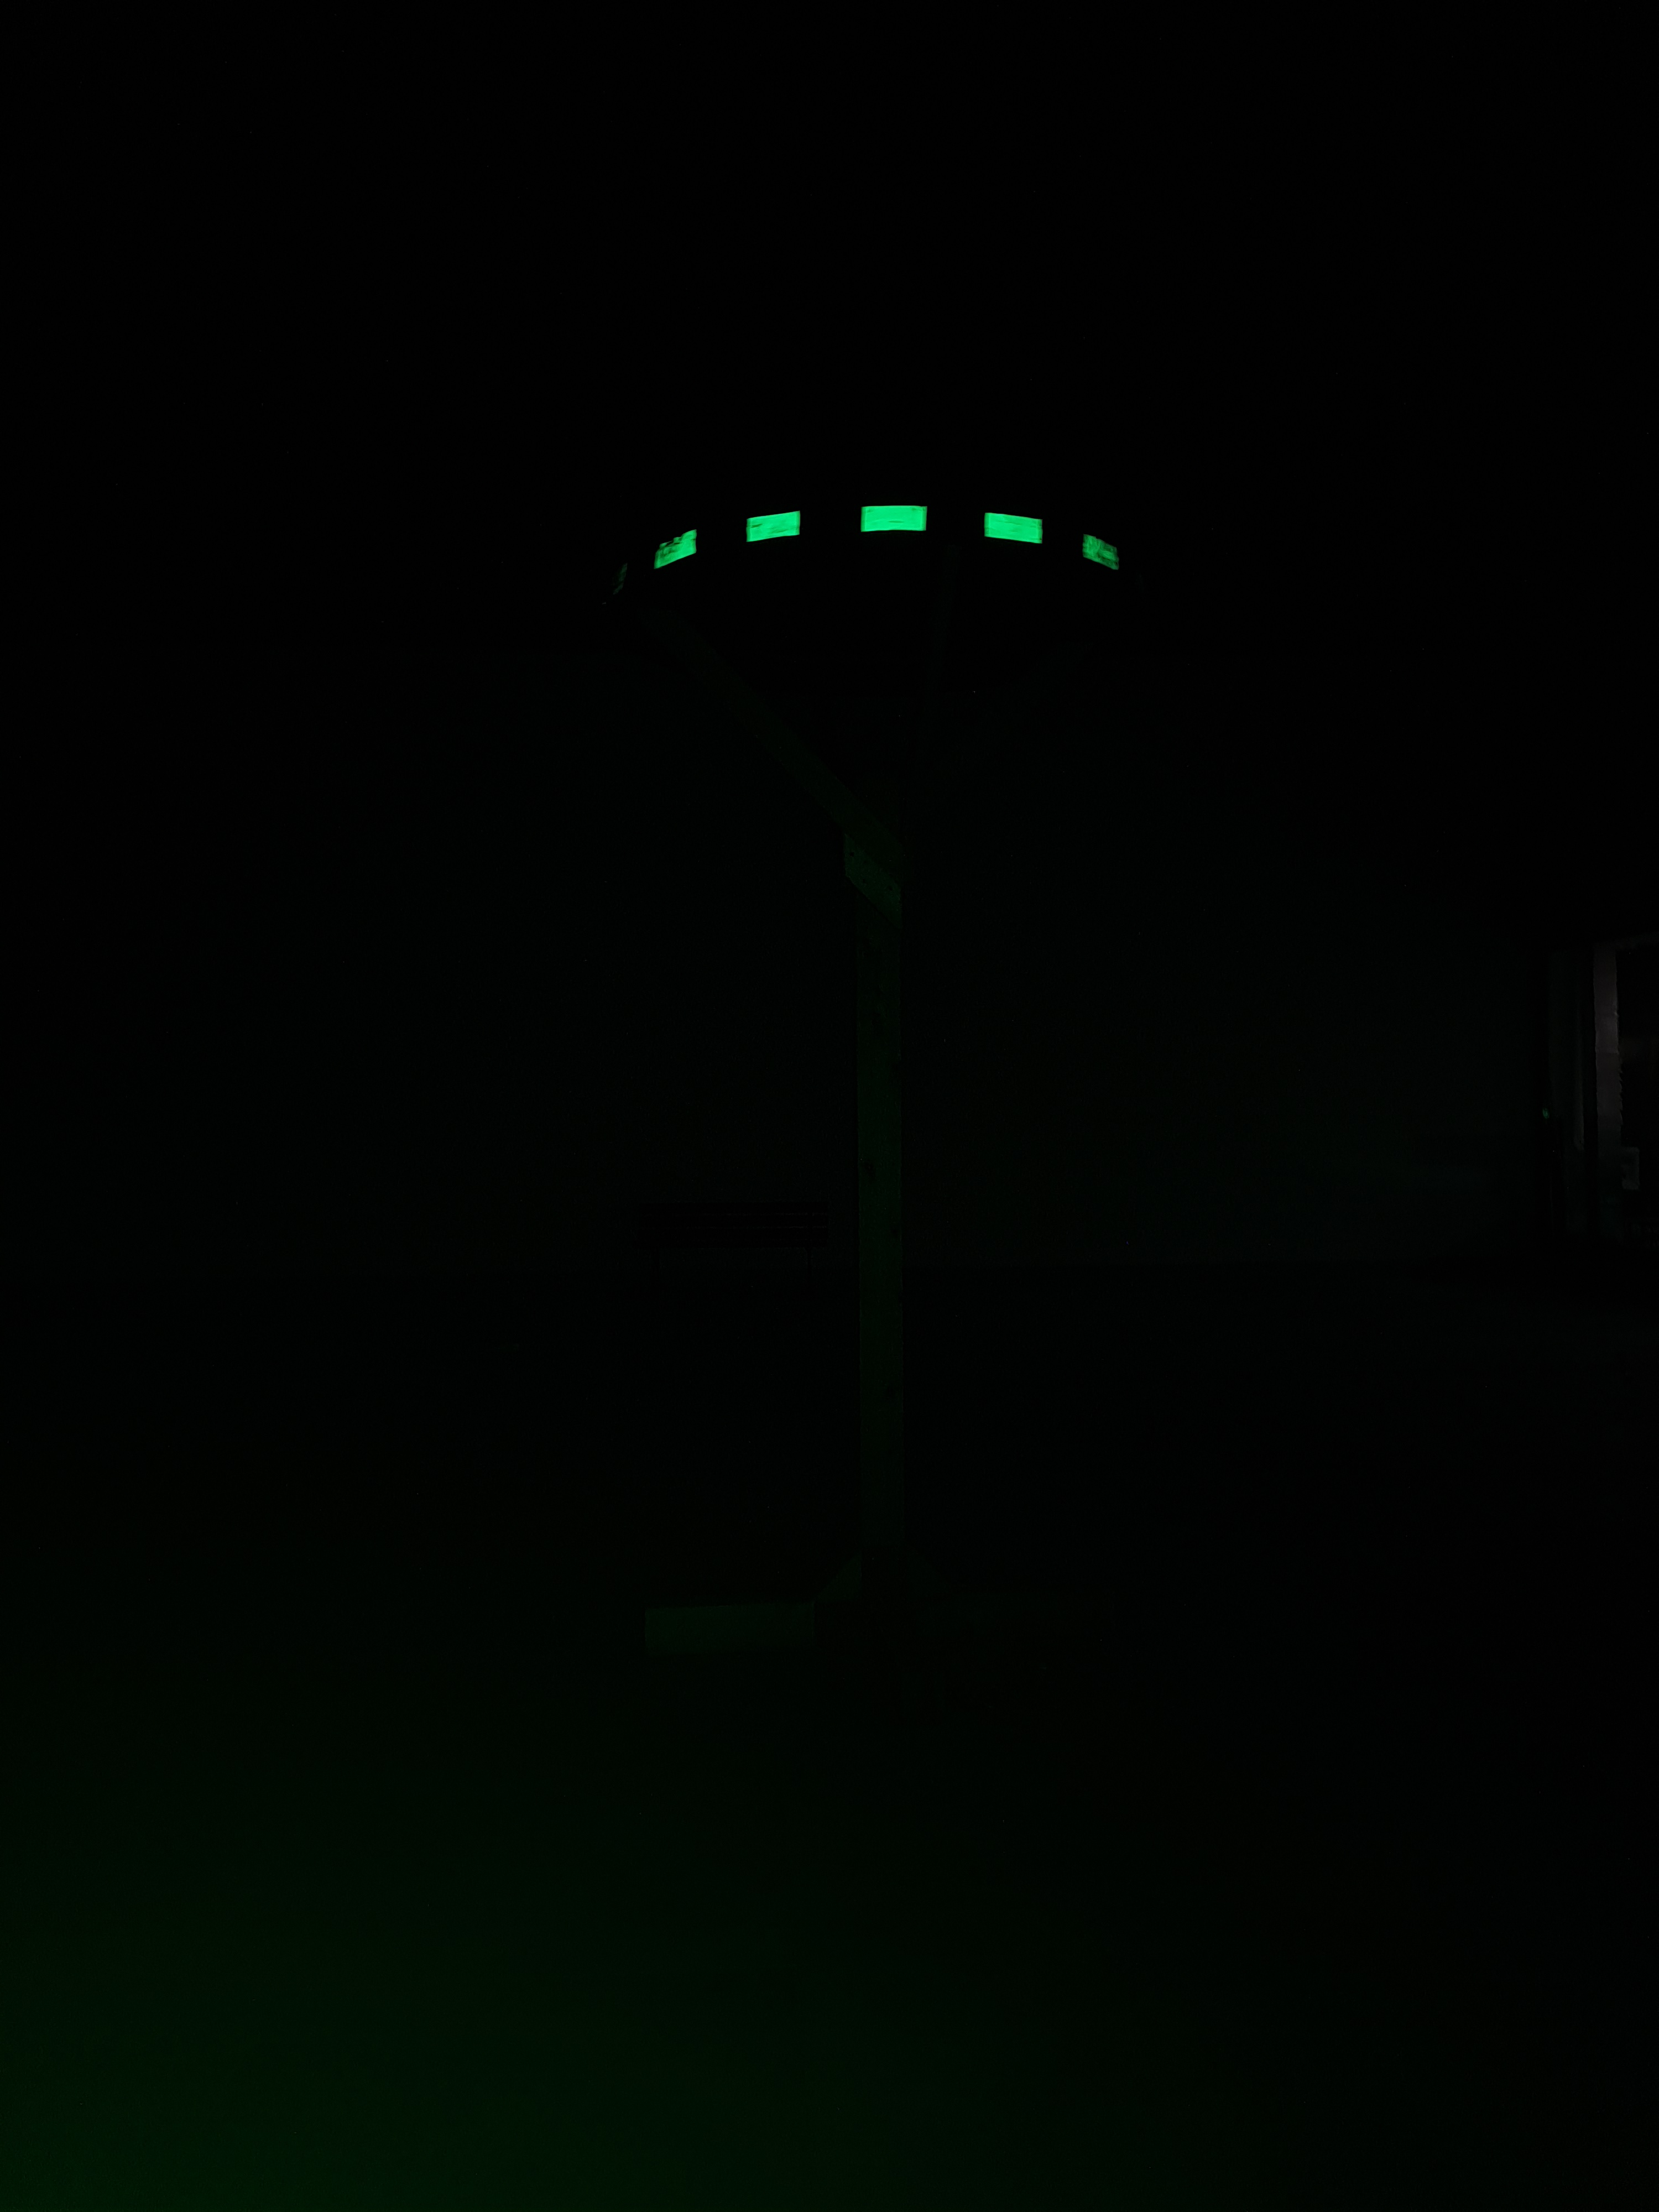hoop: (652, 500, 1121, 575)
